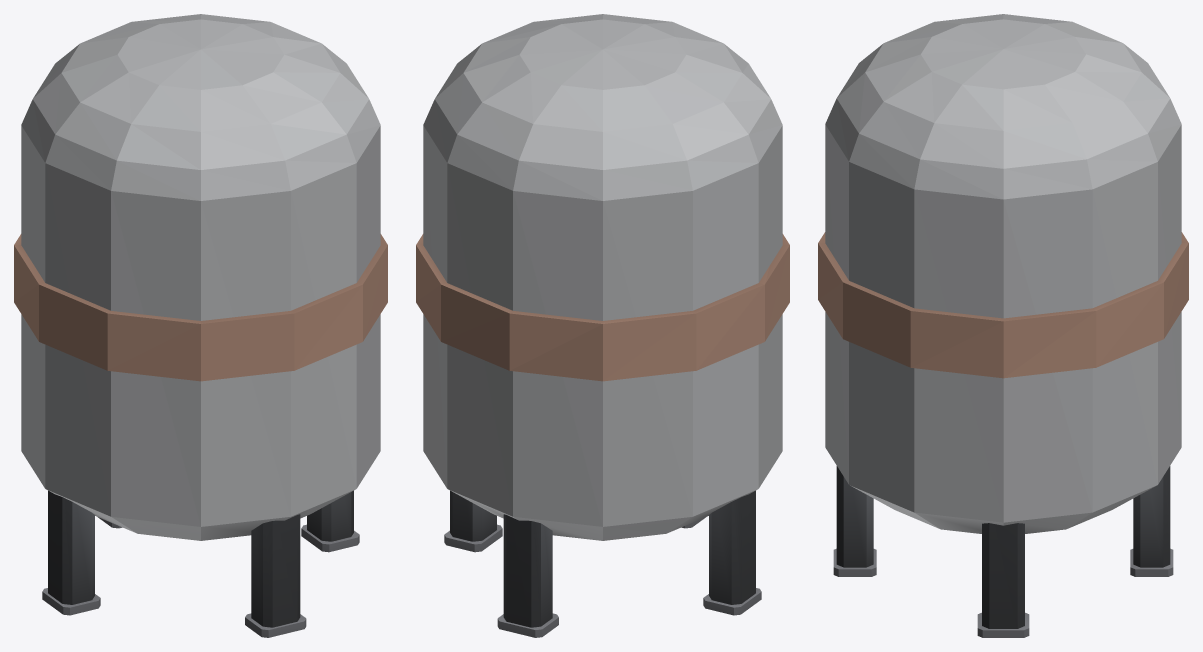
The model's file is tank.glb.
3 renders of one model, left to right at view 1: azimuth 30°, elevation 25°; view 2: azimuth 150°, elevation 25°; view 3: azimuth 270°, elevation 25°, orthographic.
Visible parts, largest first — view 1: tank; view 2: tank; view 3: tank.
Boxes of the visible parts, left/top/right/bottom form: tank: left=14, top=14, right=387, bottom=637; tank: left=416, top=14, right=789, bottom=637; tank: left=818, top=14, right=1188, bottom=637.
Size of the model in its own units: 4.16 by 6.4 by 4.16.
